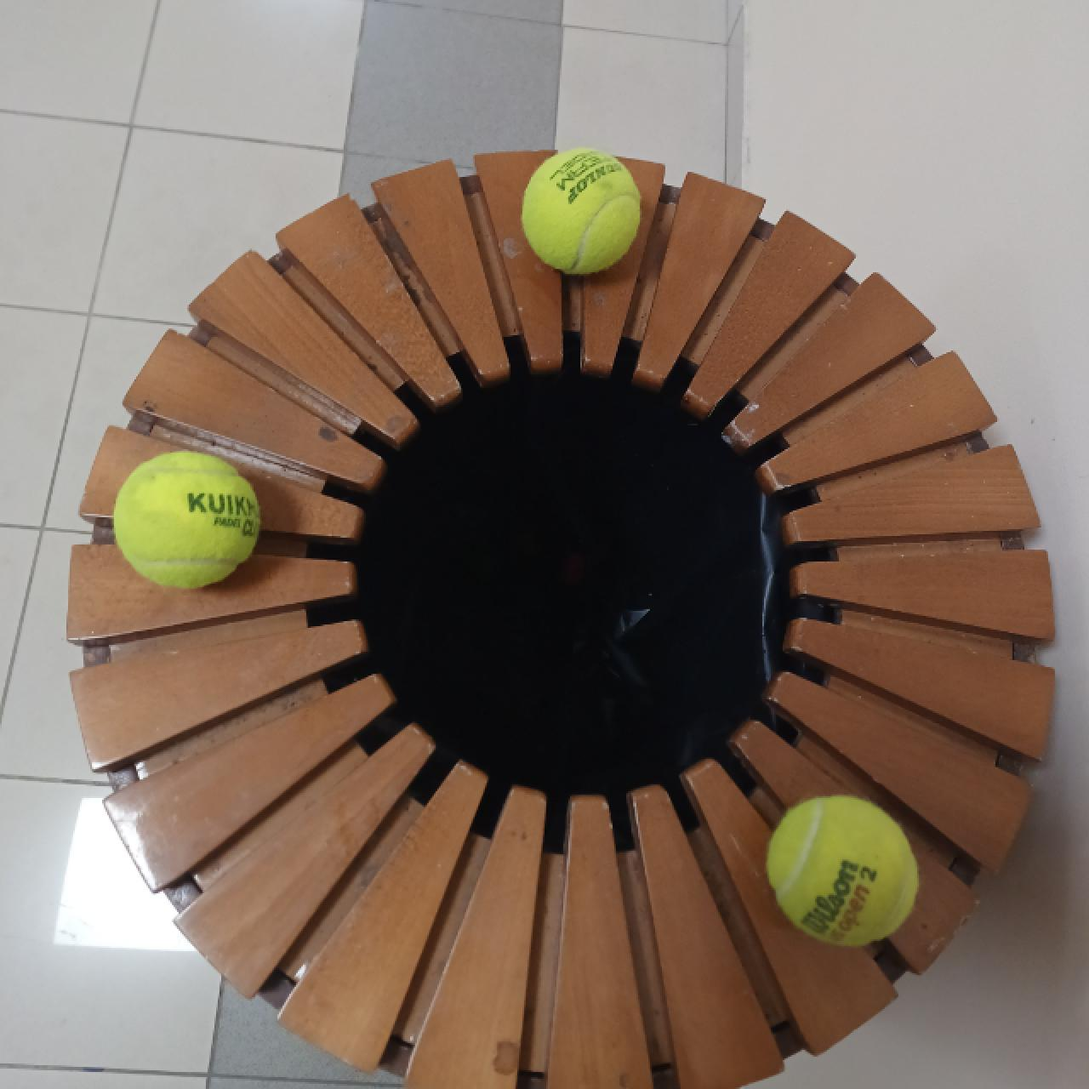tennis-ball: (764, 792, 925, 949), (111, 449, 265, 595), (519, 144, 644, 278)
